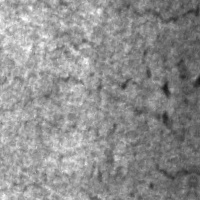crazing: (0, 62, 85, 196), (28, 0, 199, 64), (124, 39, 197, 184)
